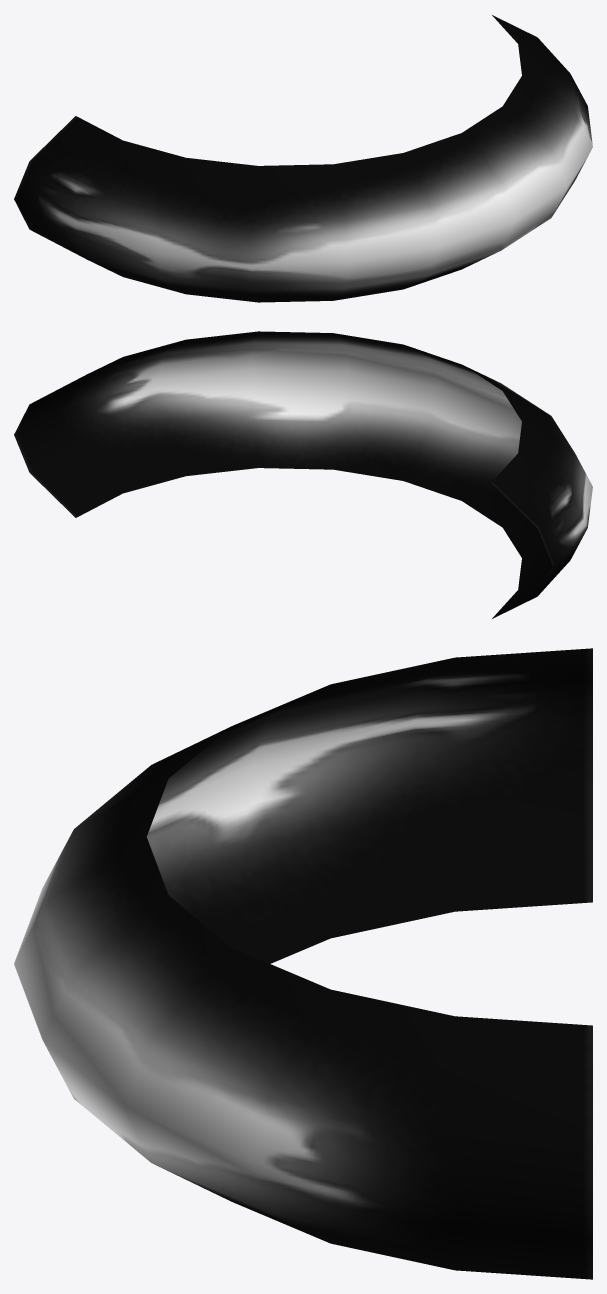
Rendered from daoguang_wind_002.FBX.
3 views of the same model, one above another, from view 1: azimuth 30°, elevation 25°; view 2: azimuth 150°, elevation 25°; view 3: azimuth 270°, elevation 25° (orthographic). The views are drawn at different scales.
Visible parts, largest first — view 1: daoguang_wind_002; view 2: daoguang_wind_002; view 3: daoguang_wind_002.
Part boxes in pixels (x1=…): daoguang_wind_002: x1=14, y1=15, x2=592, y2=302; daoguang_wind_002: x1=14, y1=331, x2=592, y2=618; daoguang_wind_002: x1=14, y1=648, x2=592, y2=1279.
Size of the model in its own units: 65.04 by 15.75 by 32.52.
